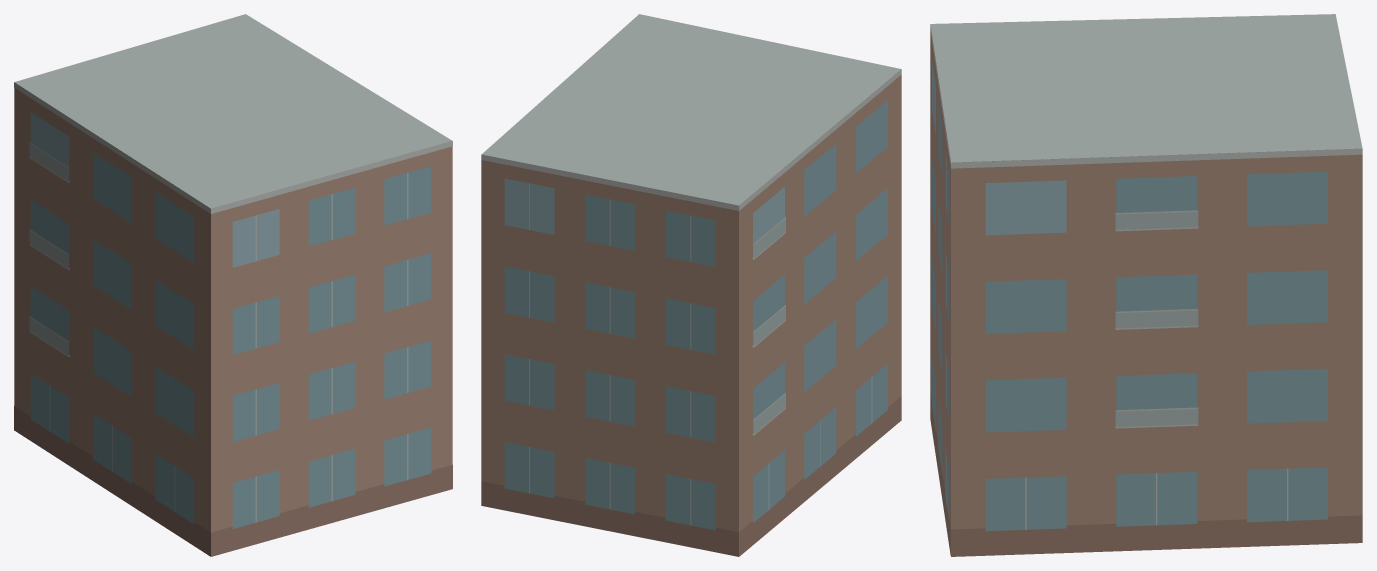
The model's file is survey-upis-32729202.glb.
The picture shows the model from 3 angles, left to right: view 1: azimuth 30°, elevation 25°; view 2: azimuth 150°, elevation 25°; view 3: azimuth 270°, elevation 25°; orthographic projection. The views are drawn at different scales.
Parts seen in each view (by area): view 1: survey-upis-32729202.tmp; view 2: survey-upis-32729202.tmp; view 3: survey-upis-32729202.tmp.
Part boxes in pixels (x1,y1,x2,y2): survey-upis-32729202.tmp: (14, 14, 452, 556); survey-upis-32729202.tmp: (481, 14, 901, 556); survey-upis-32729202.tmp: (930, 14, 1362, 556).
Bounding box in the file's own units: 12.69 × 15.7 × 15.61.
